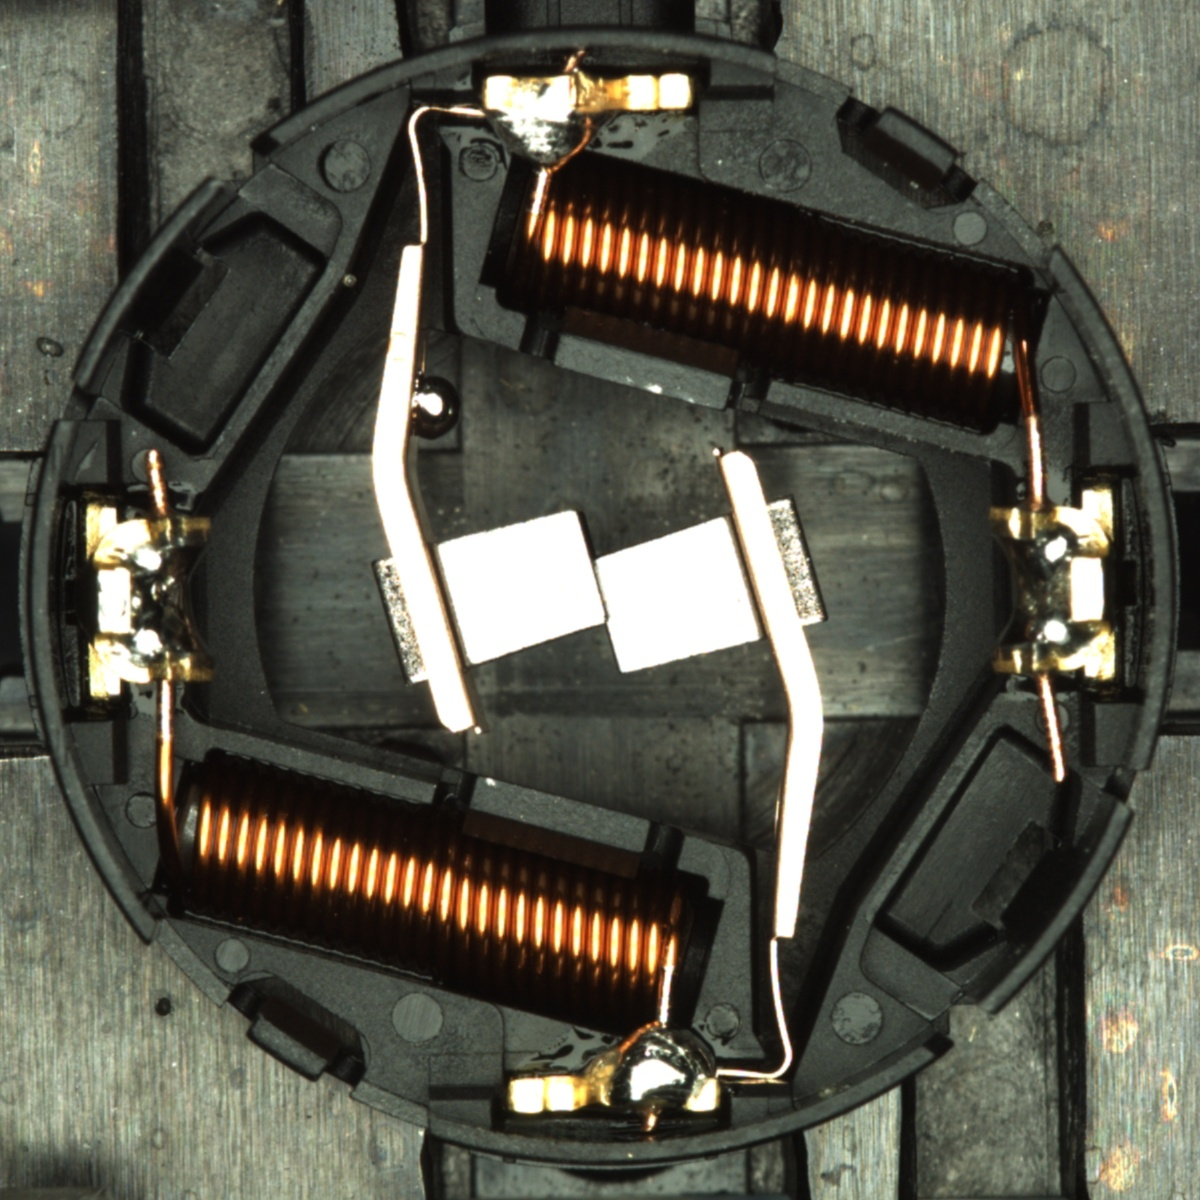1: (254, 30, 482, 255), (712, 927, 942, 1152)
2: (712, 30, 942, 255), (254, 927, 482, 1152)
3: (24, 255, 254, 479), (942, 703, 1170, 927)
4: (712, 703, 942, 927)
5: (482, 142, 712, 367), (482, 815, 712, 1040)
6: (712, 255, 942, 479), (254, 703, 482, 927)
7: (24, 703, 254, 927), (942, 255, 1170, 479)
cacbon: (395, 498, 800, 684)
chau_dien: (78, 499, 218, 700), (984, 487, 1122, 686)
hat_chi: (405, 376, 462, 438)
tay_choi: (480, 71, 697, 175), (505, 1018, 722, 1118)
thanh_de: (953, 786, 1141, 1031), (58, 164, 244, 404)
